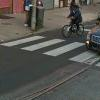Bicycle: (52, 19, 85, 39)
